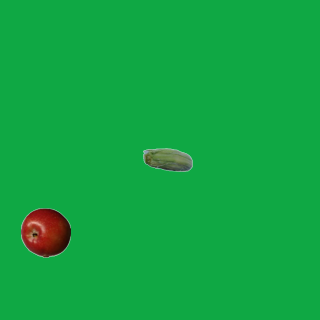Apple Braeburn: (20, 207, 70, 257)
Corn Husk: (142, 136, 192, 186)
